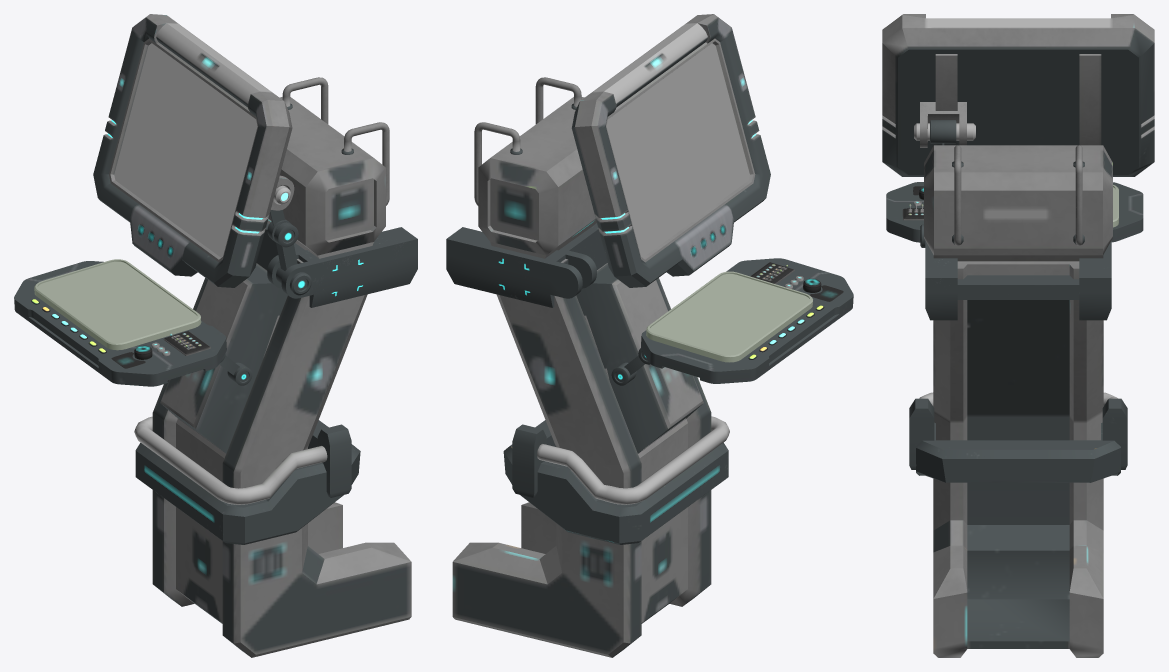
3 renders of one model, left to right at view 1: azimuth 30°, elevation 25°; view 2: azimuth 150°, elevation 25°; view 3: azimuth 270°, elevation 25°, orthographic.
Visible parts, largest first — view 1: terminal, terminal.010, terminal.013, pultWarning_low001.002, terminal.003, hinge_bottom_low.006, terminal.007, terminal.006, terminal.004, Cylinder.005, terminal.002, terminal.001; view 2: terminal, terminal.010, terminal.013, pultWarning_low001.002, terminal.003, terminal.007, hinge_bottom_low.006, terminal.006, terminal.005, terminal.001, terminal.002, Cylinder.003; view 3: terminal, terminal.010, terminal.003, terminal.007, hinge_bottom_low.006, terminal.004, terminal.005, terminal.008, terminal.001, terminal.002, pultWarning_low001.002, Cylinder.006.
Boxes of the visible parts, bbox=[...] form: terminal: bbox=[152, 97, 411, 657]; terminal.010: bbox=[93, 14, 292, 287]; terminal.013: bbox=[114, 43, 257, 257]; pultWarning_low001.002: bbox=[31, 259, 210, 368]; terminal.003: bbox=[135, 420, 360, 544]; hinge_bottom_low.006: bbox=[14, 261, 226, 386]; terminal.007: bbox=[256, 223, 417, 307]; terminal.006: bbox=[134, 416, 327, 504]; terminal.004: bbox=[317, 424, 351, 497]; Cylinder.005: bbox=[267, 221, 311, 295]; terminal.002: bbox=[341, 122, 389, 205]; terminal.001: bbox=[282, 77, 328, 123]; terminal: bbox=[452, 97, 711, 657]; terminal.010: bbox=[571, 14, 770, 287]; terminal.013: bbox=[606, 43, 749, 257]; pultWarning_low001.002: bbox=[646, 262, 843, 362]; terminal.003: bbox=[503, 420, 728, 544]; terminal.007: bbox=[446, 223, 607, 307]; hinge_bottom_low.006: bbox=[641, 258, 853, 383]; terminal.006: bbox=[537, 416, 729, 504]; terminal.005: bbox=[512, 424, 546, 497]; terminal.001: bbox=[474, 122, 522, 205]; terminal.002: bbox=[535, 77, 581, 124]; Cylinder.003: bbox=[611, 348, 650, 385]; terminal: bbox=[924, 145, 1112, 657]; terminal.010: bbox=[882, 14, 1154, 176]; terminal.003: bbox=[916, 422, 1120, 482]; terminal.007: bbox=[925, 240, 1111, 320]; hinge_bottom_low.006: bbox=[886, 182, 1143, 242]; terminal.004: bbox=[909, 398, 934, 469]; terminal.005: bbox=[1102, 398, 1127, 469]; terminal.008: bbox=[920, 102, 966, 147]; terminal.001: bbox=[1073, 145, 1084, 245]; terminal.002: bbox=[952, 145, 963, 245]; pultWarning_low001.002: bbox=[902, 185, 1118, 227]; Cylinder.006: bbox=[930, 120, 956, 145].
Bounding box in the file's own units: 0.2137 × 0.3775 × 0.1646.
Materials: 2 (1 with a texture image).
